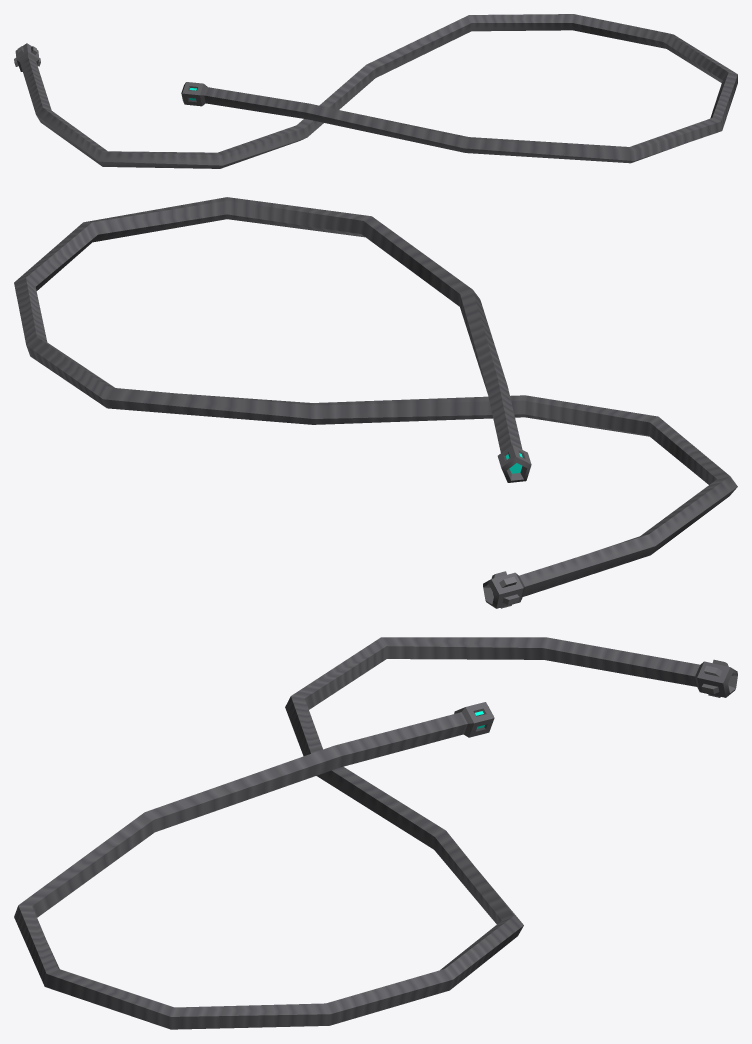
Rendered from SM_Prop_Wires_11.fbx.
3 views of the same model, one above another, from view 1: azimuth 30°, elevation 25°; view 2: azimuth 150°, elevation 25°; view 3: azimuth 270°, elevation 25° (orthographic). The views are drawn at different scales.
Visible parts, largest first — view 1: SM_Prop_Wires_11; view 2: SM_Prop_Wires_11; view 3: SM_Prop_Wires_11.
Boxes of the visible parts, x1=… form: SM_Prop_Wires_11: x1=14, y1=14, x2=737, y2=168; SM_Prop_Wires_11: x1=14, y1=197, x2=737, y2=608; SM_Prop_Wires_11: x1=14, y1=637, x2=737, y2=1029.
Bounding box in the file's own units: 337 × 19.27 × 272.
